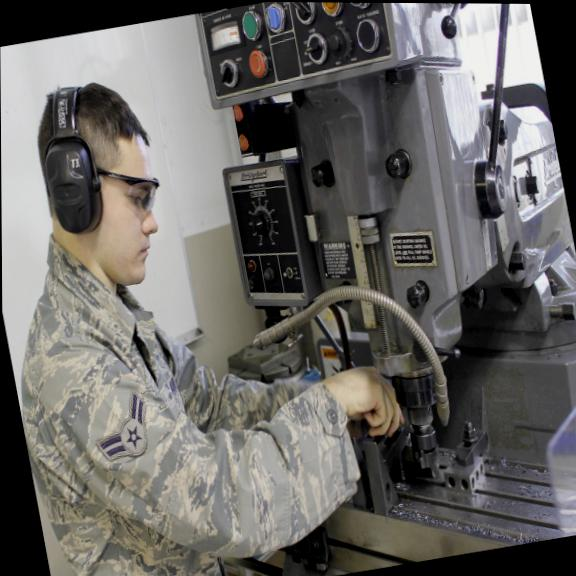no_safety_vest: (2, 247, 245, 576)
